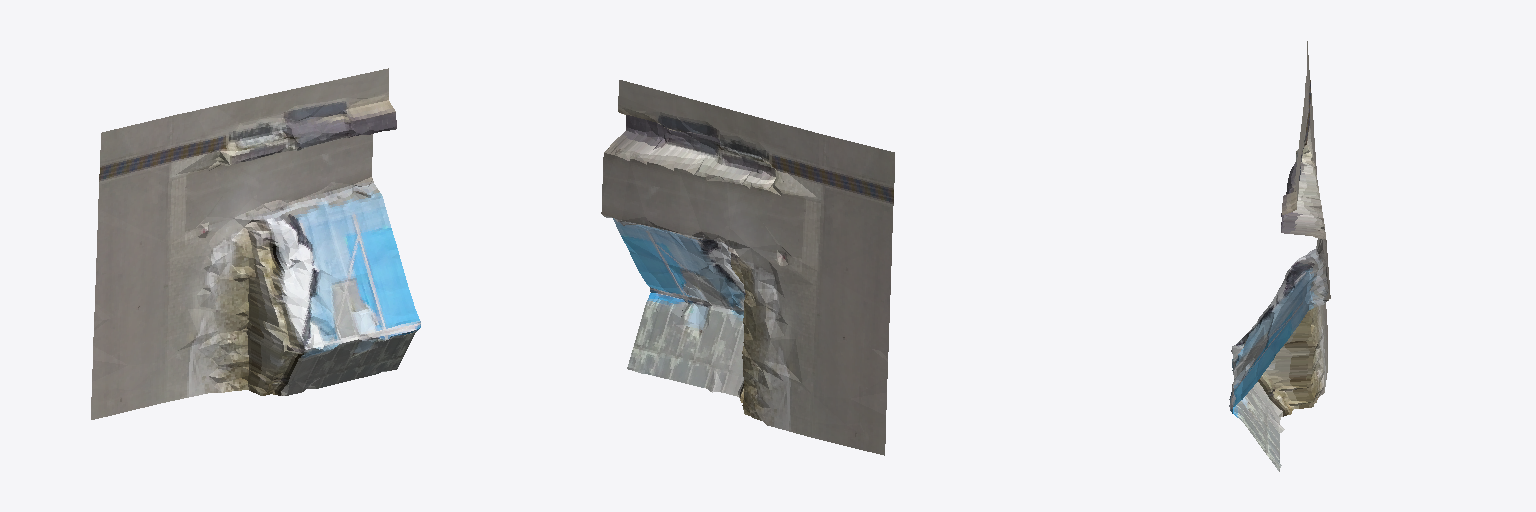
3 renders of one model, left to right at view 1: azimuth 30°, elevation 25°; view 2: azimuth 150°, elevation 25°; view 3: azimuth 270°, elevation 25°, orthographic.
Parts seen in each view (by area): view 1: grp1; view 2: grp1; view 3: grp1.
Part boxes in pixels (left/top/right/bottom): grp1: left=91, top=68, right=420, bottom=419; grp1: left=601, top=80, right=894, bottom=455; grp1: left=1229, top=41, right=1330, bottom=471.
Bounding box in the file's own units: 10 × 10 × 3.11.
Materials: 1 (1 with a texture image).